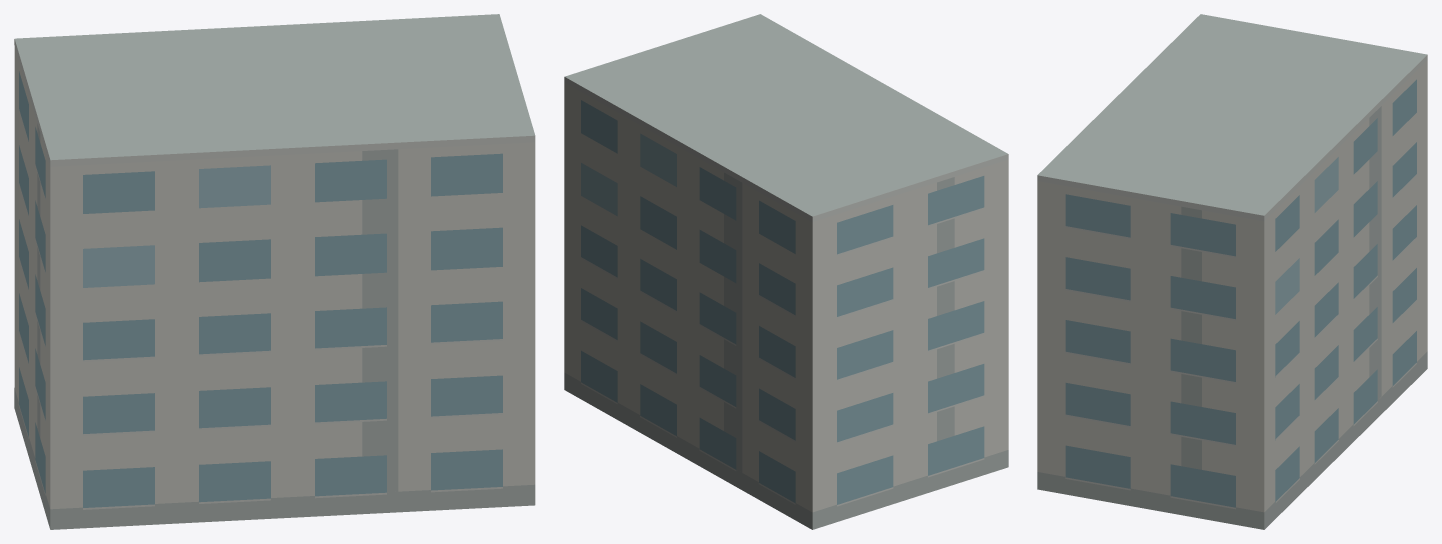
The model's file is survey-upis-32571942.glb.
3 views of the same model, side by side, from view 1: azimuth 30°, elevation 25°; view 2: azimuth 150°, elevation 25°; view 3: azimuth 270°, elevation 25° (orthographic). The views are drawn at different scales.
Parts seen in each view (by area): view 1: survey-upis-32571942.tmp; view 2: survey-upis-32571942.tmp; view 3: survey-upis-32571942.tmp.
Boxes of the visible parts, bbox=[...] form: survey-upis-32571942.tmp: bbox=[14, 14, 535, 529]; survey-upis-32571942.tmp: bbox=[564, 14, 1008, 529]; survey-upis-32571942.tmp: bbox=[1037, 14, 1427, 529].
Size of the model in its own units: 18.6 by 13.5 by 15.21.
